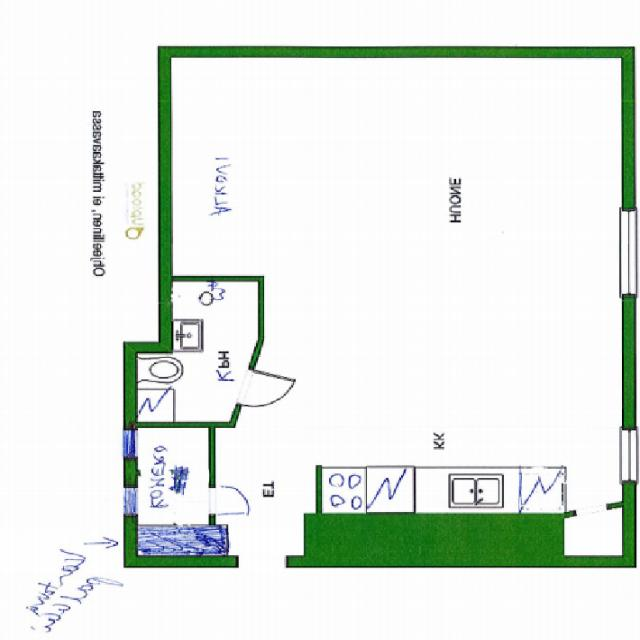door: (237, 369, 293, 414), (210, 486, 249, 514)
